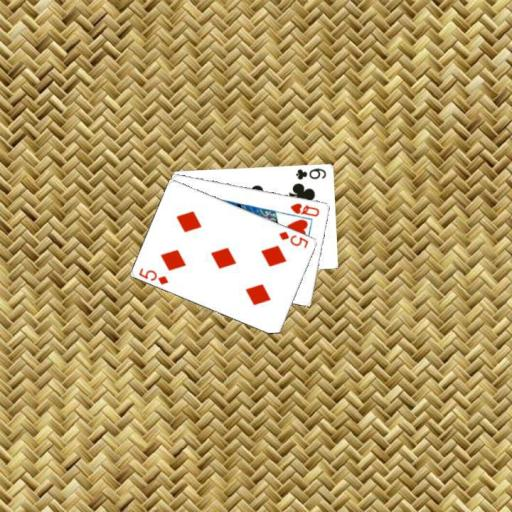5D: (276, 228, 310, 250), (136, 264, 170, 286)
6C: (293, 165, 328, 181)
QH: (287, 200, 321, 218)
